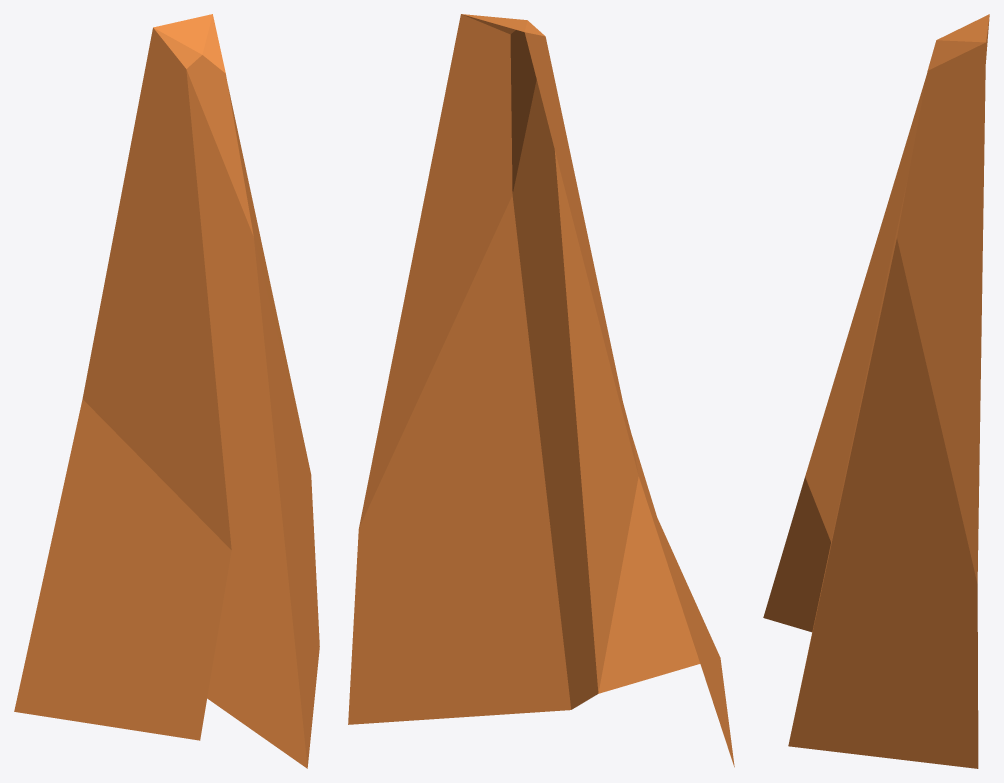
Rendered from Towel_8.fbx.
The picture shows the model from 3 angles, left to right: view 1: azimuth 30°, elevation 25°; view 2: azimuth 150°, elevation 25°; view 3: azimuth 270°, elevation 25°; orthographic projection. The views are drawn at different scales.
Parts seen in each view (by area): view 1: Towel_8; view 2: Towel_8; view 3: Towel_8.
Part boxes in pixels (x1,y1,x2,y2): Towel_8: (14,14,319,768); Towel_8: (348,14,734,767); Towel_8: (763,14,989,768).
Size of the model in its own units: 36.27 by 21.36 by 73.31.
